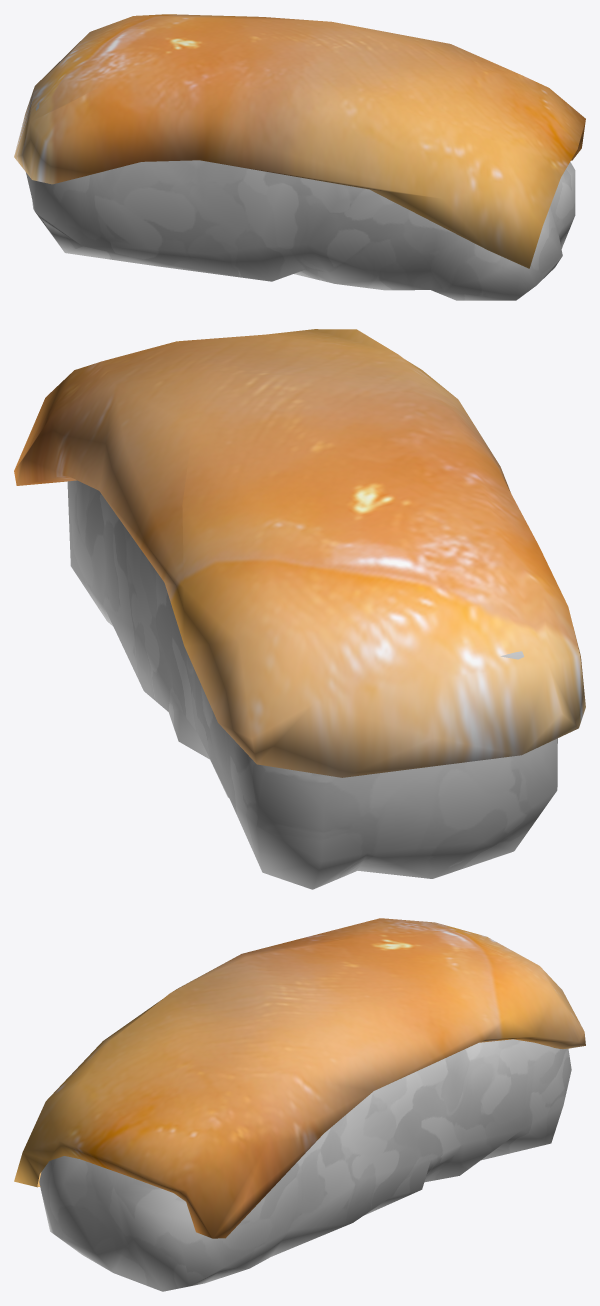
The model's file is _hellsushi.fbx.
3 renders of one model, top to bottom at view 1: azimuth 30°, elevation 25°; view 2: azimuth 150°, elevation 25°; view 3: azimuth 270°, elevation 25°, orthographic. The views are drawn at different scales.
Parts seen in each view (by area): view 1: Salmon 4.006, Riceball 4.005; view 2: Salmon 4.006, Riceball 4.005; view 3: Salmon 4.006, Riceball 4.005.
Part boxes in pixels (left/top/right/bottom): Salmon 4.006: left=14, top=14, right=585, bottom=268; Riceball 4.005: left=26, top=102, right=575, bottom=300; Salmon 4.006: left=14, top=329, right=585, bottom=777; Riceball 4.005: left=67, top=480, right=557, bottom=889; Salmon 4.006: left=14, top=918, right=585, bottom=1238; Riceball 4.005: left=39, top=1039, right=571, bottom=1291.
Size of the model in its own units: 101 by 44.15 by 102.
Materials: 2 (2 with a texture image).
